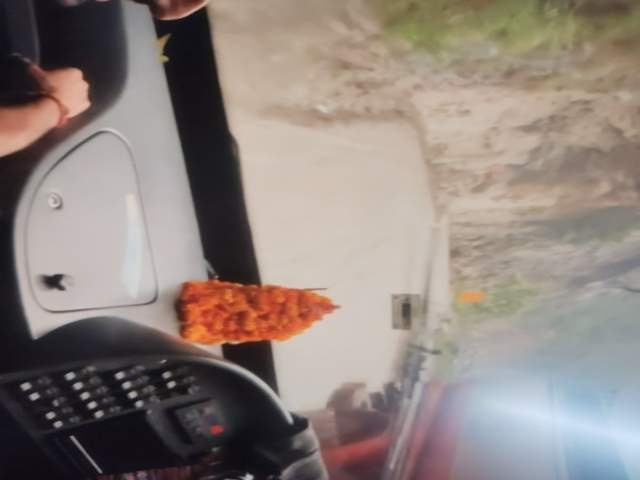pothole: (208, 311, 308, 391)
